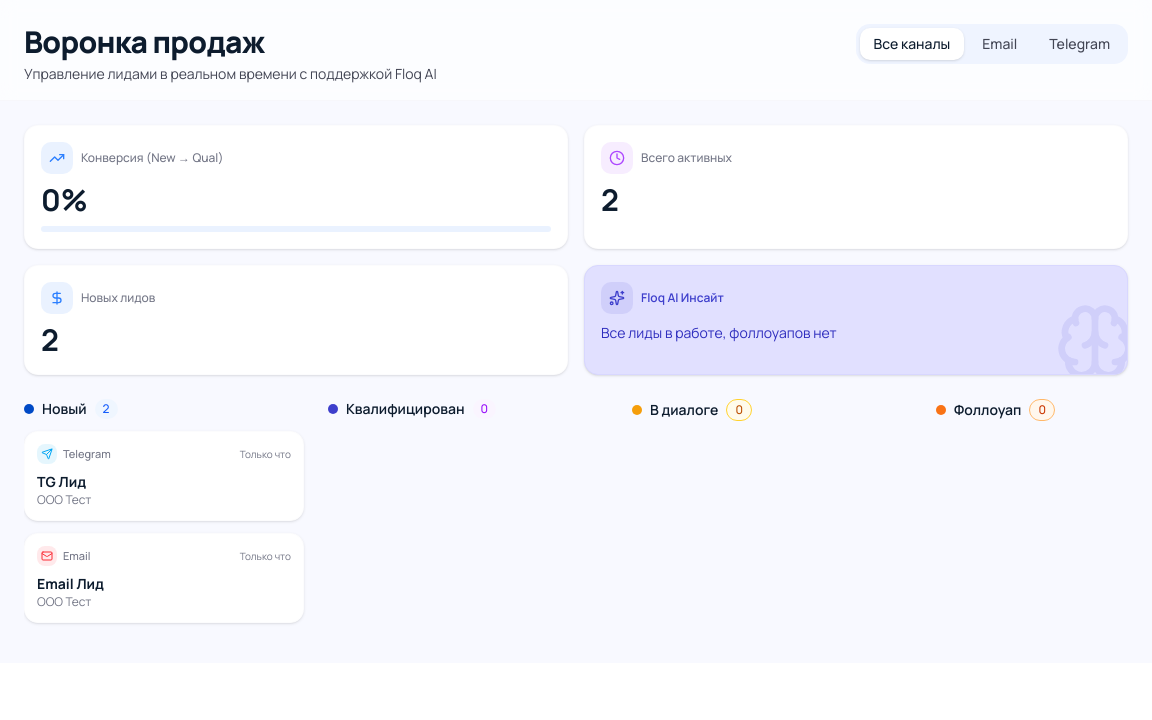
Test: PipelinePage › filters by channel
Expected: the text "TG Лид" is shown, 37,472 -> 86,491
Expected: the text "Email Лид" is shown, 37,574 -> 104,593
Step 1. Click the button "Telegram" → (1080, 44), box 1035,28 -> 1124,60
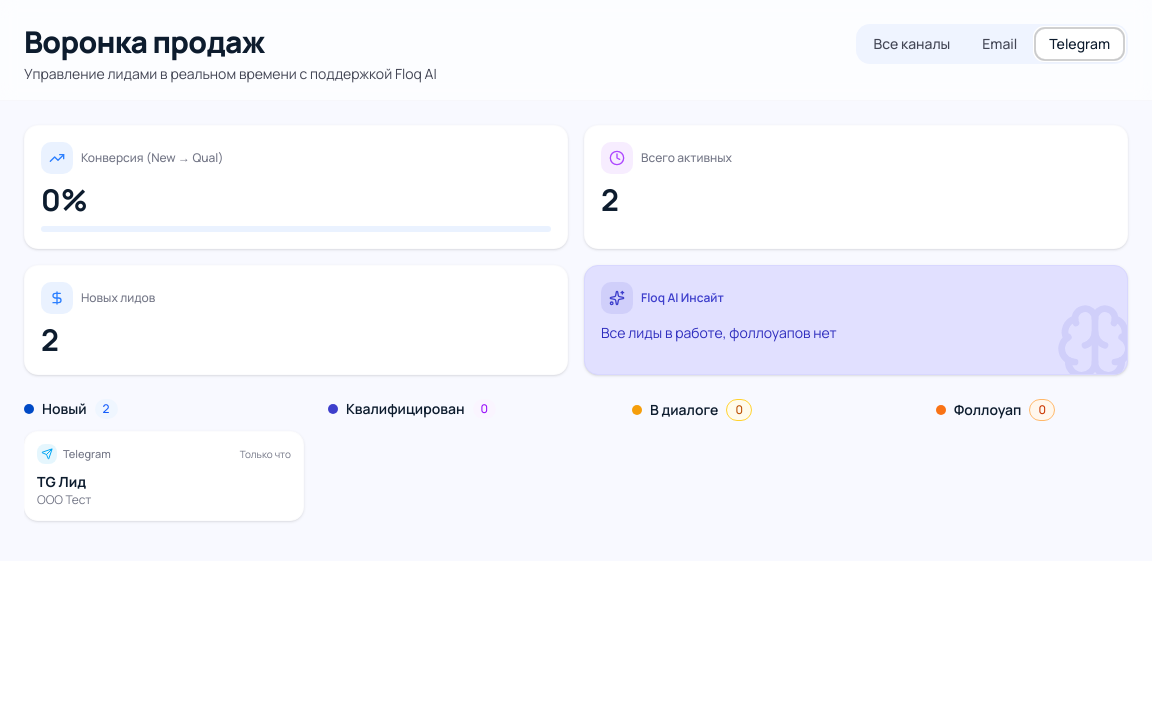
Expected: the text "TG Лид" is shown, 37,472 -> 86,491
Expected: the text "Email Лид" is gone
